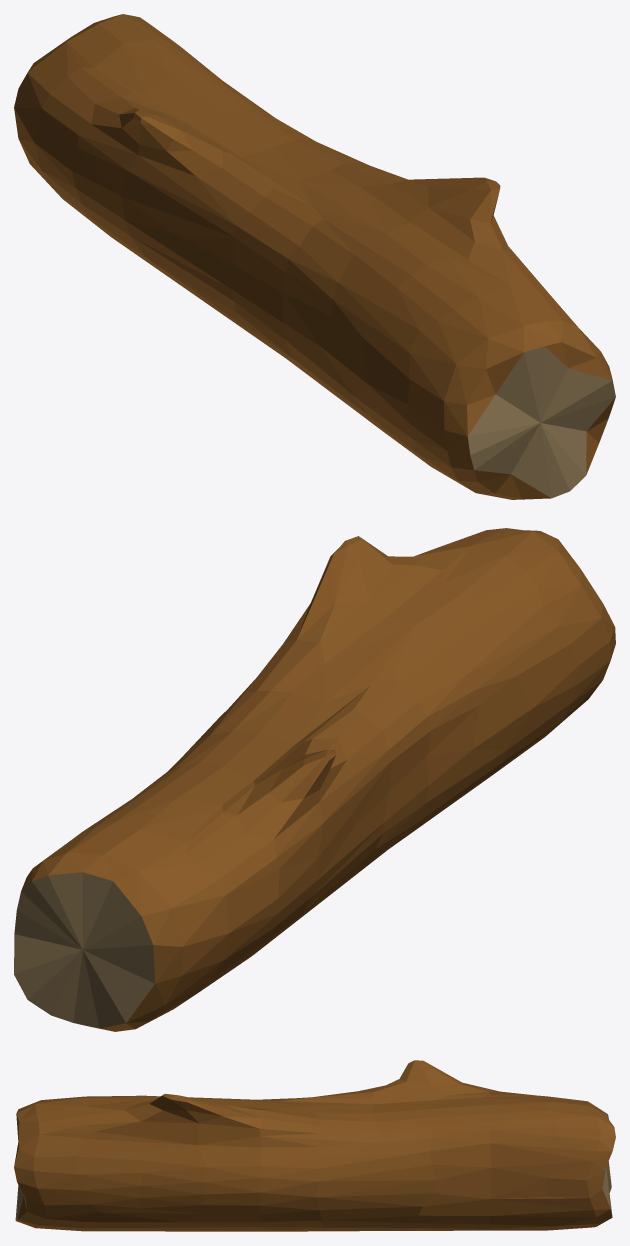
Rendered from Liegender_Baum.glb.
The picture shows the model from 3 angles, top to bottom: view 1: azimuth 30°, elevation 25°; view 2: azimuth 150°, elevation 25°; view 3: azimuth 270°, elevation 25°; orthographic projection. The views are drawn at different scales.
Visible parts, largest first — view 1: Liegender Baum; view 2: Liegender Baum; view 3: Liegender Baum.
Boxes of the visible parts, <box> form: Liegender Baum: <box>14,14,615,499</box>; Liegender Baum: <box>14,528,615,1031</box>; Liegender Baum: <box>14,1060,615,1231</box>.
Bounding box in the file's own units: 2.42 × 2.51 × 9.05.
